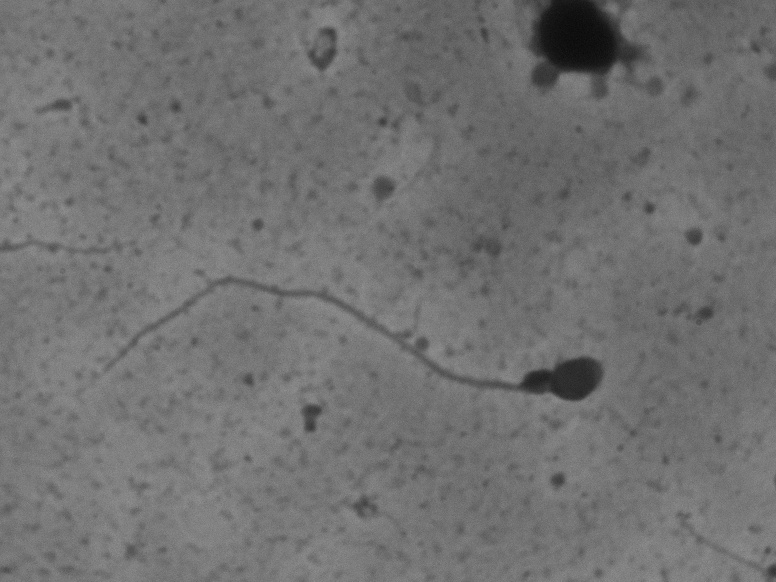Abnormal: (78, 232, 641, 455)
